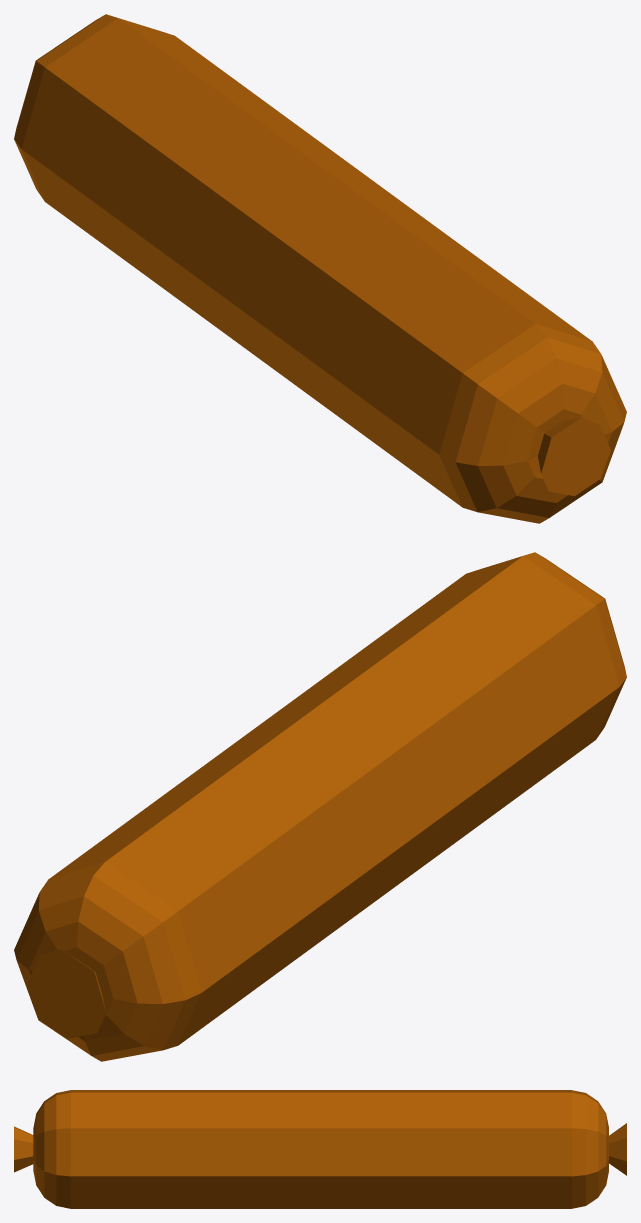
File: Meat Salami 02.fbx
3 views of the same model, one above another, from view 1: azimuth 30°, elevation 25°; view 2: azimuth 150°, elevation 25°; view 3: azimuth 270°, elevation 25° (orthographic). The views are drawn at different scales.
Visible parts, largest first — view 1: Meat Salami 02; view 2: Meat Salami 02; view 3: Meat Salami 02.
Boxes of the visible parts, <box> form: Meat Salami 02: <box>14,14,626,523</box>; Meat Salami 02: <box>14,552,626,1061</box>; Meat Salami 02: <box>14,1090,626,1208</box>.
Bounding box in the file's own units: 21.4 × 21.98 × 105.
